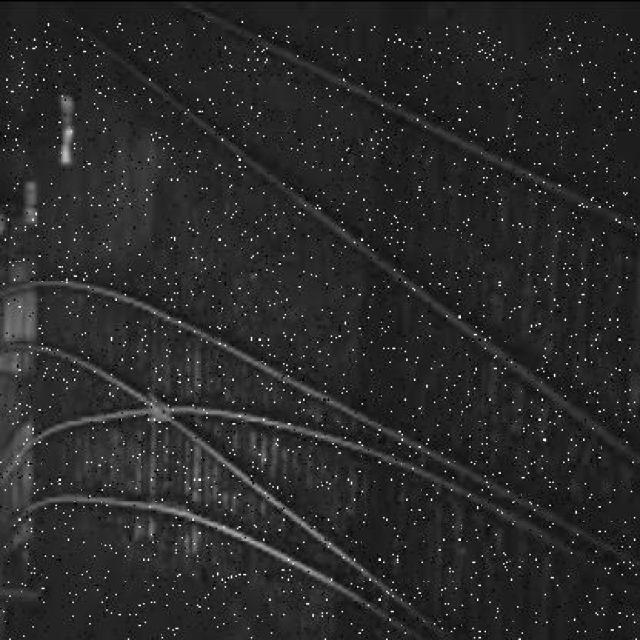rail: (2, 19, 638, 640)
